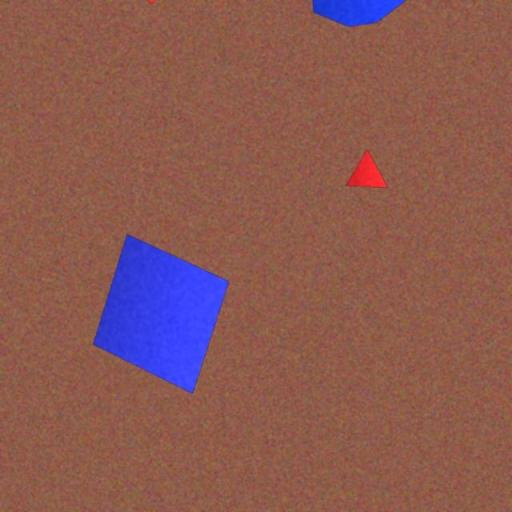BLUE_SQUARE: (93, 232, 230, 394)
